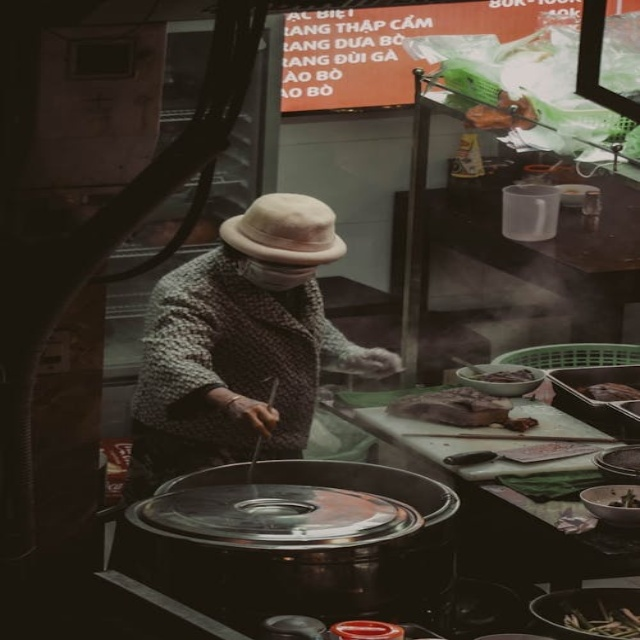Mascara: (240, 257, 318, 291)
Sin_guantes: (221, 393, 277, 428)
